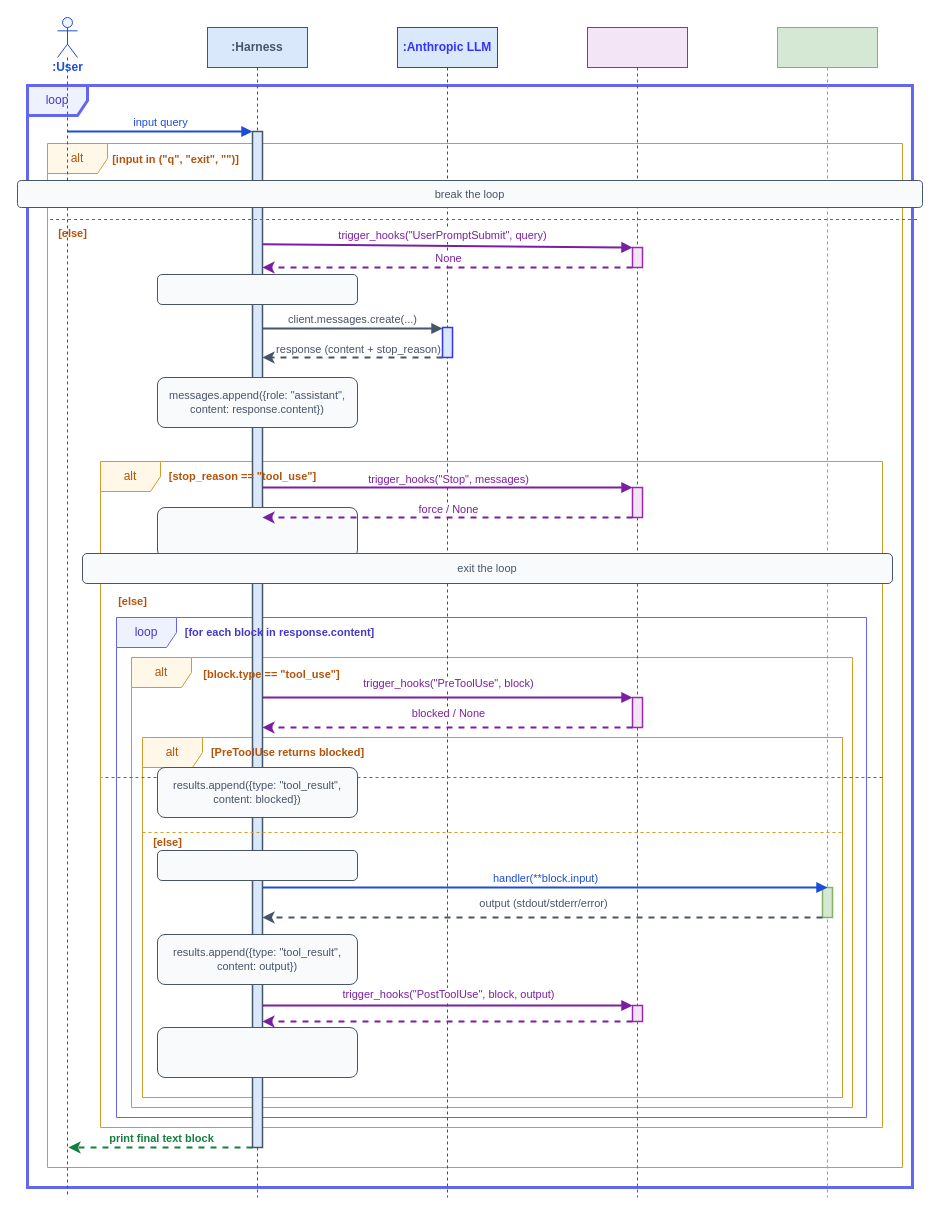
This 940x1215 diagram has some shape labels left out. The centre of each missing label's shape, as x and y in pixels:
:Hooks: point 637,612
:Tool Handlers: point 827,612
handler = TOOL_HANDLERS.get(block.name): point 257,865
history.append({role: "user", content: query}): point 257,289
if force: messages.append({role: "user", content: force}); continue: point 257,532
messages.append({role: "user", content: results}): point 257,1052
